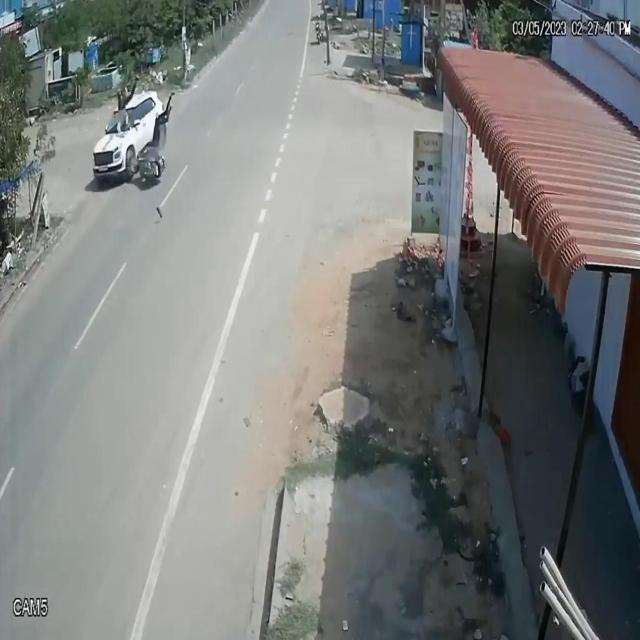accident: (86, 70, 179, 214)
